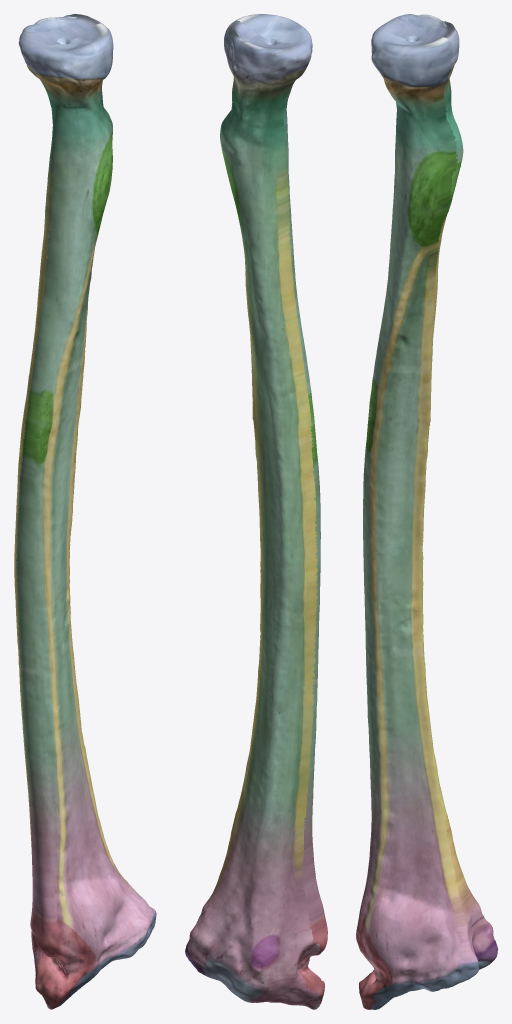
Rendered from kosc-promieniowa.glb.
The picture shows the model from 3 angles, left to right: view 1: azimuth 30°, elevation 25°; view 2: azimuth 150°, elevation 25°; view 3: azimuth 330°, elevation 25°; orthographic projection. The views are drawn at different scales.
Bounding box in the file's own units: 0.03 × 0.2215 × 0.0207.
2 materials, 1 textured.
